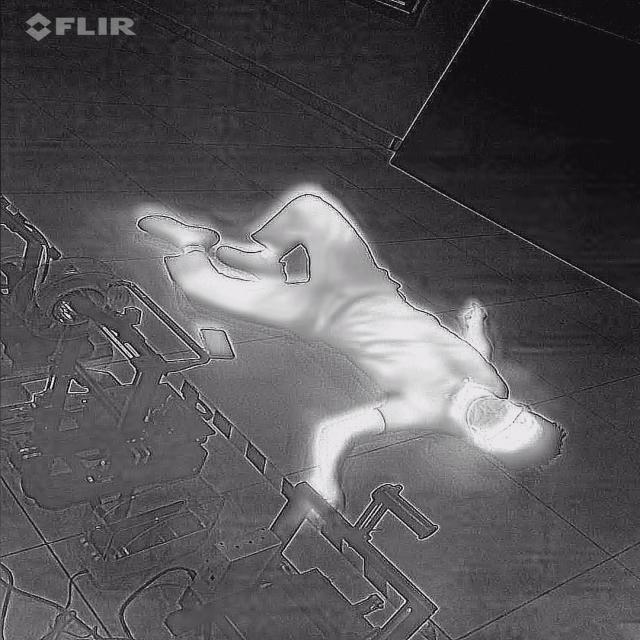Victim: (124, 178, 576, 524)
